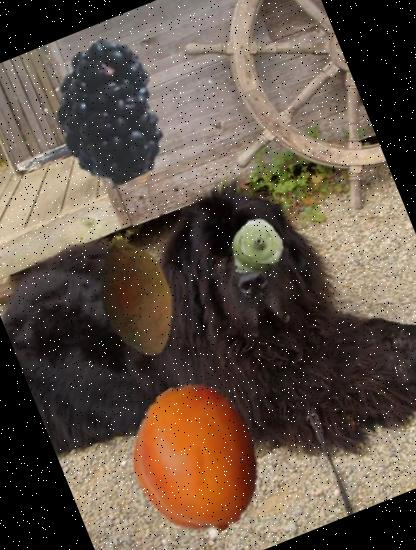Apricot: (99, 362, 292, 550)
Kohlrabi: (218, 211, 292, 285)
Mulberry: (17, 20, 201, 204)
Potato: (54, 216, 218, 379)
